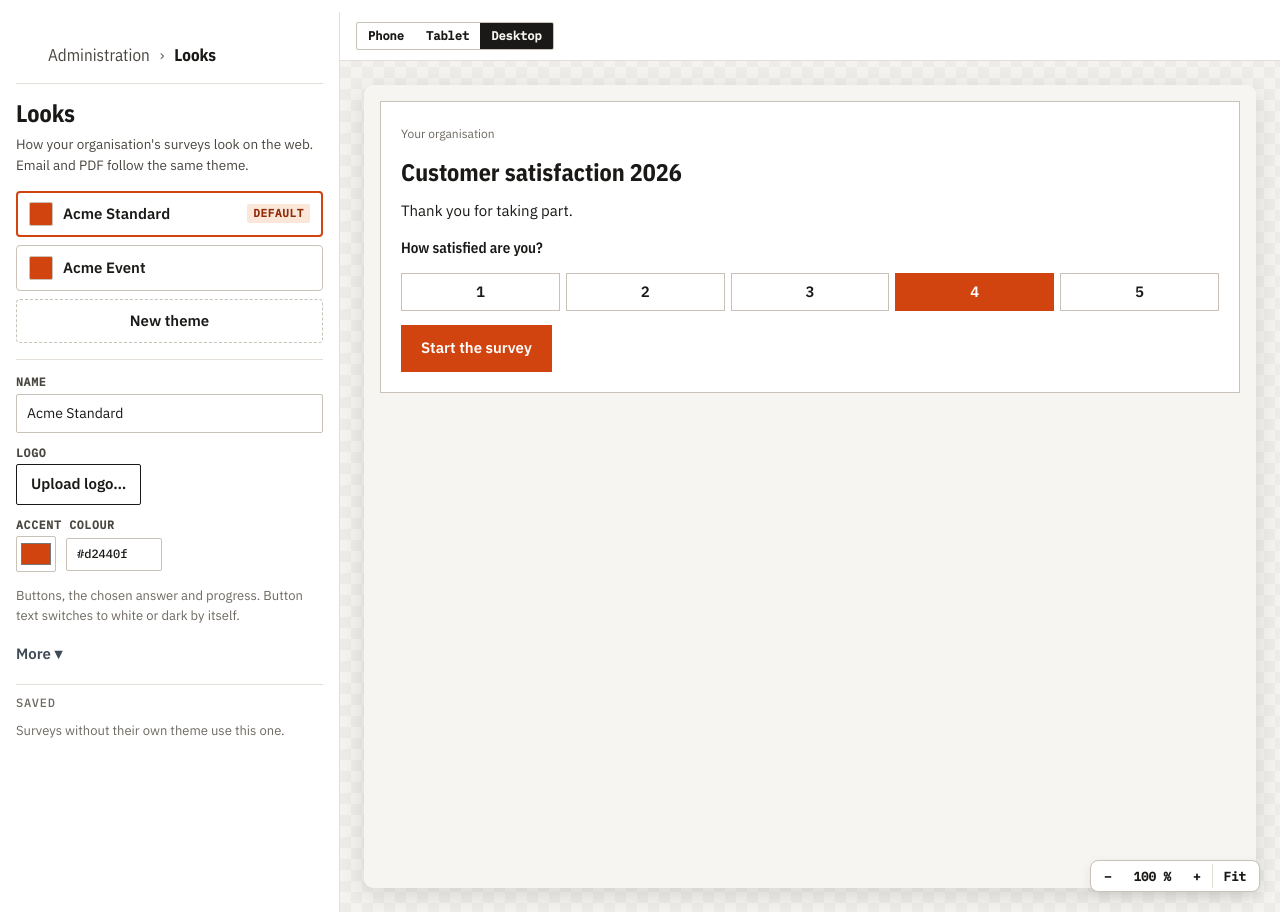
Scenario: Administration → Looks (AWK-17, W10 A, W32): stupid simple › shows only name, logo and accent colour, and the rest under More
This screenshot has width=1280, height=912.
Expected: the heading "Looks" is shown, [16, 97, 75, 129]
Expected: the field labelled "Name" is shown, [16, 394, 323, 433]
Click the button "More ▾": [39, 655] box [16, 639, 62, 670]
(page scrolled)
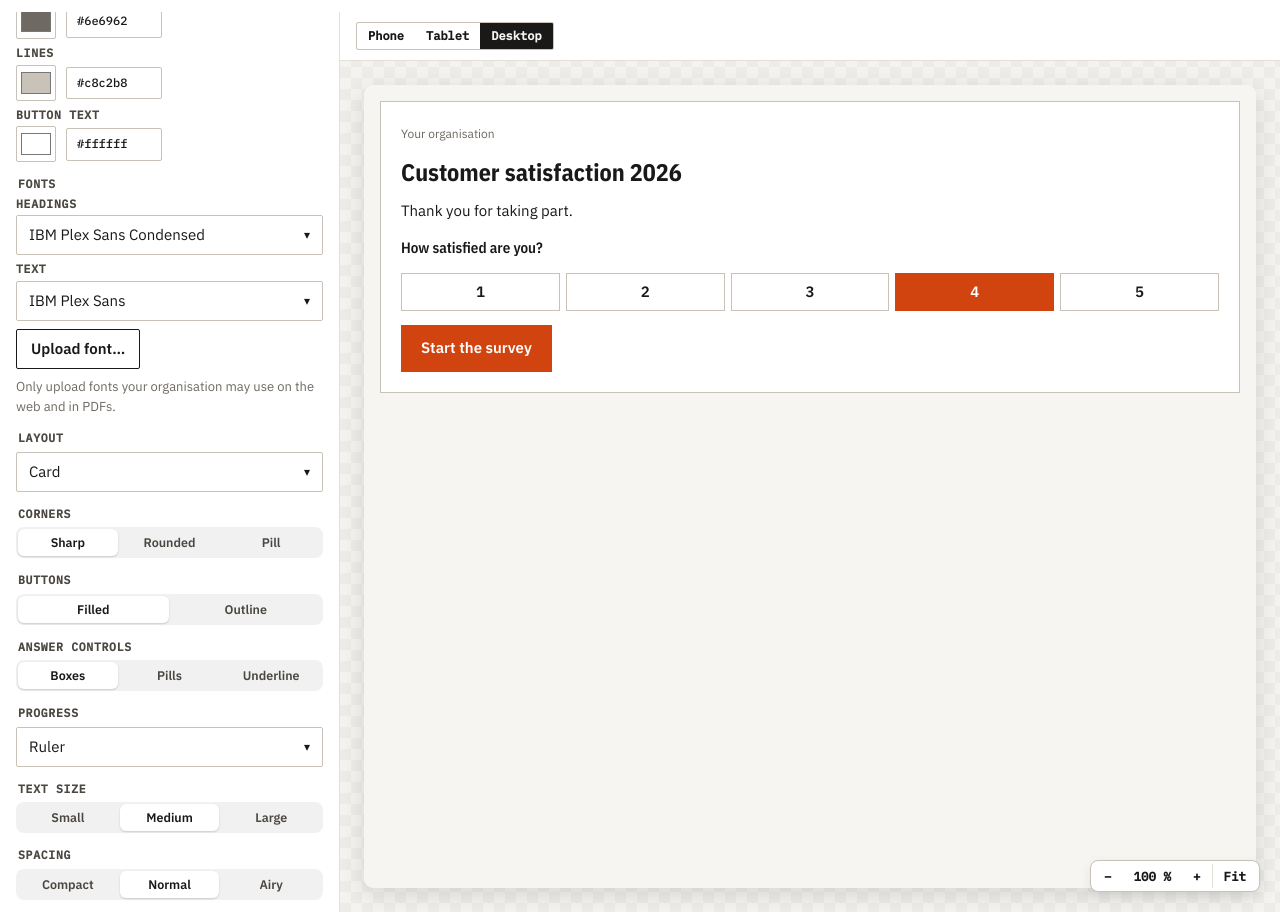
Expected: the element "Corners" is shown, [16, 508, 323, 558]
Expected: the element "Layout" is shown, [16, 432, 323, 492]
